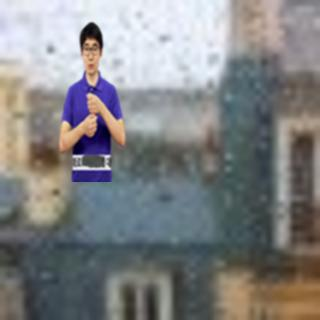CAREFUL: (78, 90, 109, 143)
